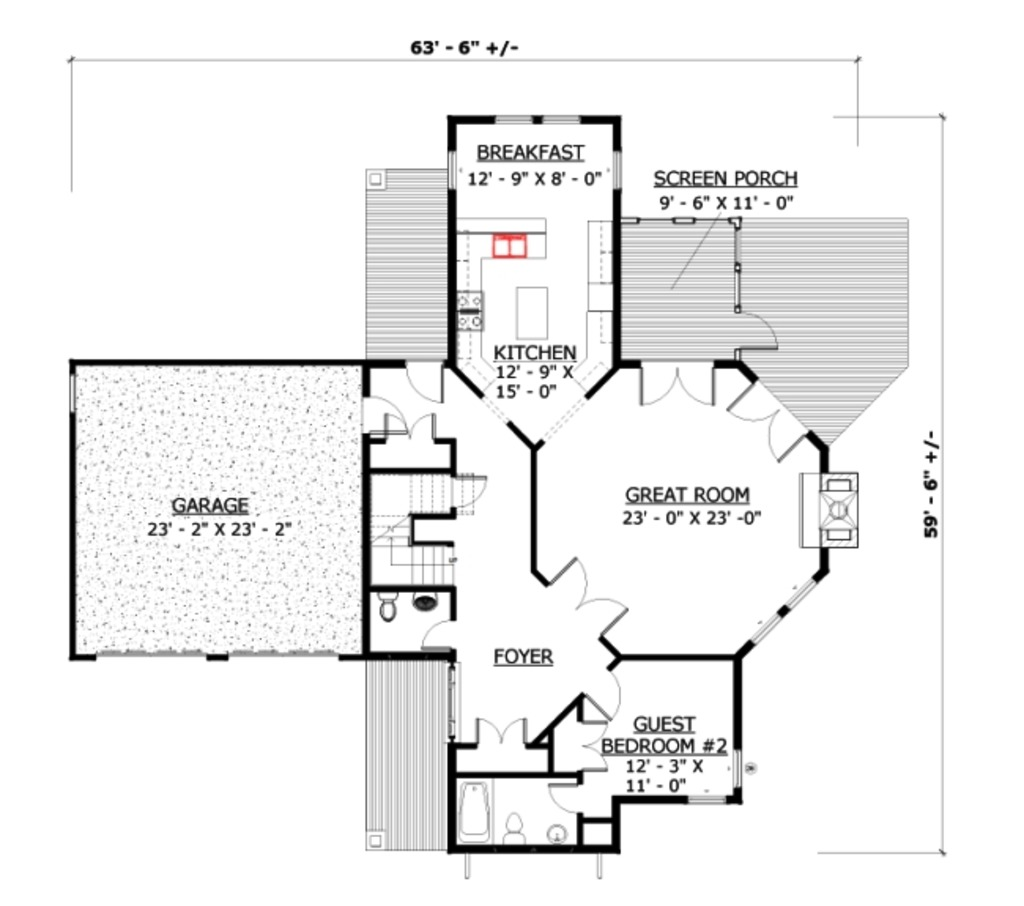door: (537, 550, 632, 632), (726, 380, 812, 462), (626, 359, 722, 409), (395, 359, 449, 404), (378, 412, 451, 443), (580, 667, 627, 715), (356, 391, 404, 433), (580, 719, 615, 773), (420, 611, 466, 652), (466, 714, 533, 742), (735, 311, 775, 350), (543, 780, 590, 811), (457, 473, 491, 508)
kitchen_bar: (459, 279, 546, 393)
large_sink: (492, 804, 536, 848), (367, 587, 397, 625)
small_sink: (408, 588, 444, 619), (543, 815, 577, 845)
stairs: (361, 473, 467, 586)
tub: (451, 776, 494, 843)
twin_sink: (478, 225, 542, 263)
window: (754, 570, 829, 642), (485, 102, 575, 125), (444, 148, 468, 195), (606, 146, 628, 197), (681, 791, 725, 809), (730, 745, 744, 786)
